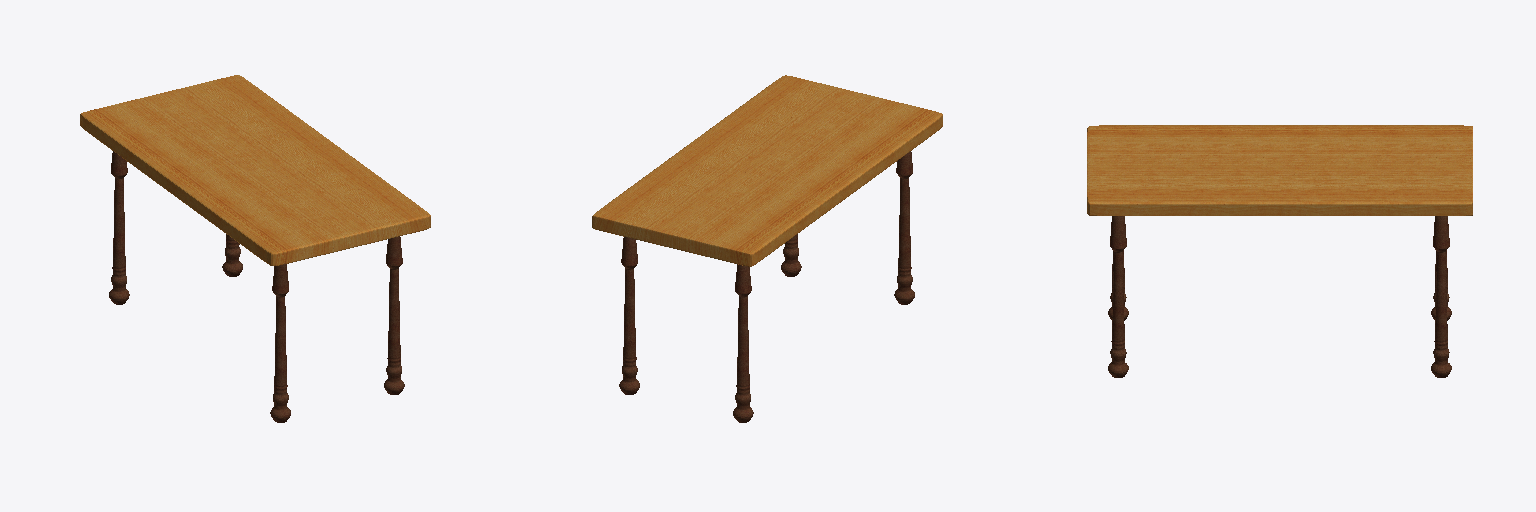
3 renders of one model, left to right at view 1: azimuth 30°, elevation 25°; view 2: azimuth 150°, elevation 25°; view 3: azimuth 270°, elevation 25°, orthographic.
Visible parts, largest first — view 1: upper table_0, leg.001_0, leg.002_0, leg_0, leg.003_0; view 2: upper table_0, leg.003_0, leg_0, leg.001_0, leg.002_0; view 3: upper table_0, leg.002_0, leg.003_0.
Part boxes in pixels (x1,y1,x2,y2): upper table_0: (80,75,430,265); leg.001_0: (270,264,290,422); leg.002_0: (384,236,404,394); leg_0: (109,151,129,304); leg.003_0: (222,234,242,276); upper table_0: (592,75,942,266); leg.003_0: (619,237,639,394); leg_0: (733,264,753,422); leg.001_0: (894,151,914,304); leg.002_0: (781,234,801,276); upper table_0: (1087,125,1472,215); leg.002_0: (1108,216,1128,377); leg.003_0: (1431,216,1451,377).
Bounding box in the file's own units: 2 × 2.18 × 4.15.
Materials: 2 (2 with a texture image).